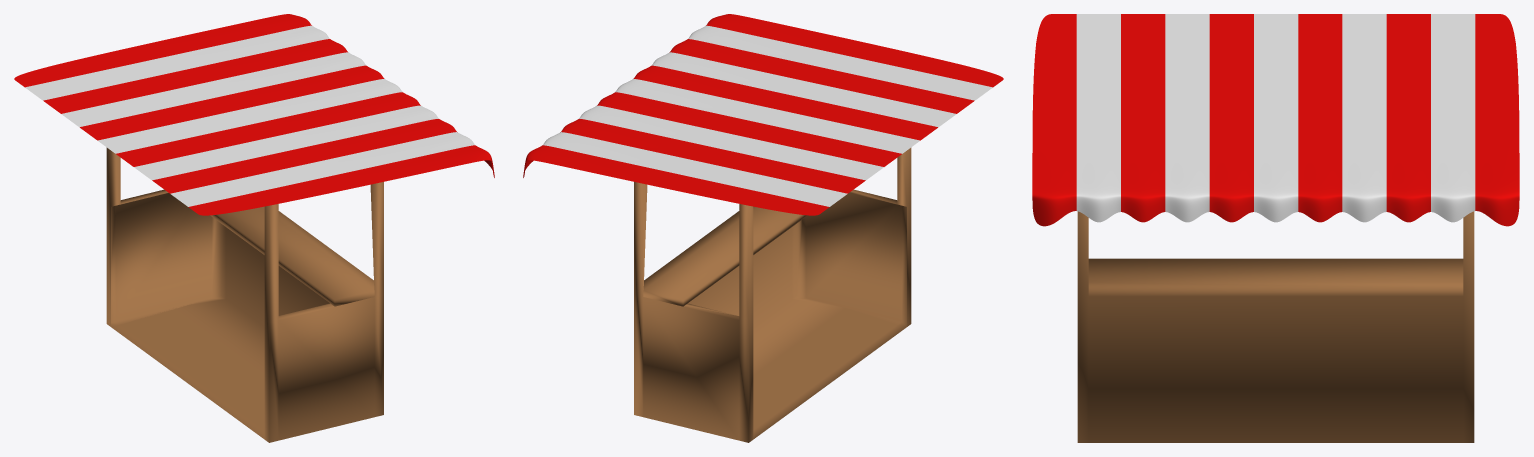
File: tienda.fbx
3 views of the same model, side by side, from view 1: azimuth 30°, elevation 25°; view 2: azimuth 150°, elevation 25°; view 3: azimuth 270°, elevation 25° (orthographic). The views are drawn at different scales.
Visible parts, largest first — view 1: Tienda; view 2: Tienda; view 3: Tienda.
Part boxes in pixels (x1,y1,x2,y2): Tienda: (14,14,494,442); Tienda: (523,14,1003,442); Tienda: (1032,14,1519,442).
Bounding box in the file's own units: 513 × 426 × 602.
